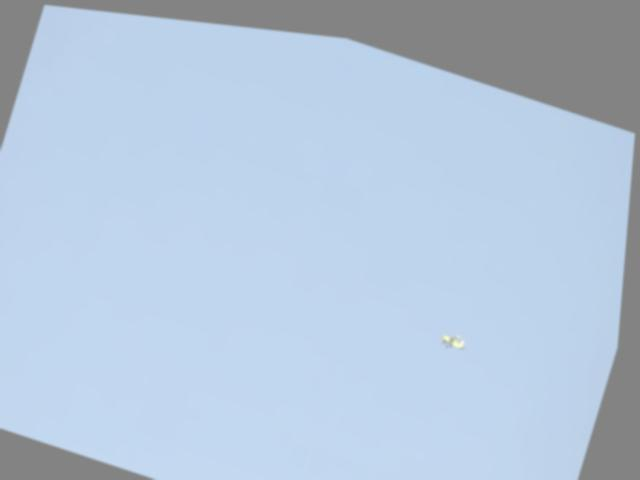plane: (441, 320, 473, 343)
